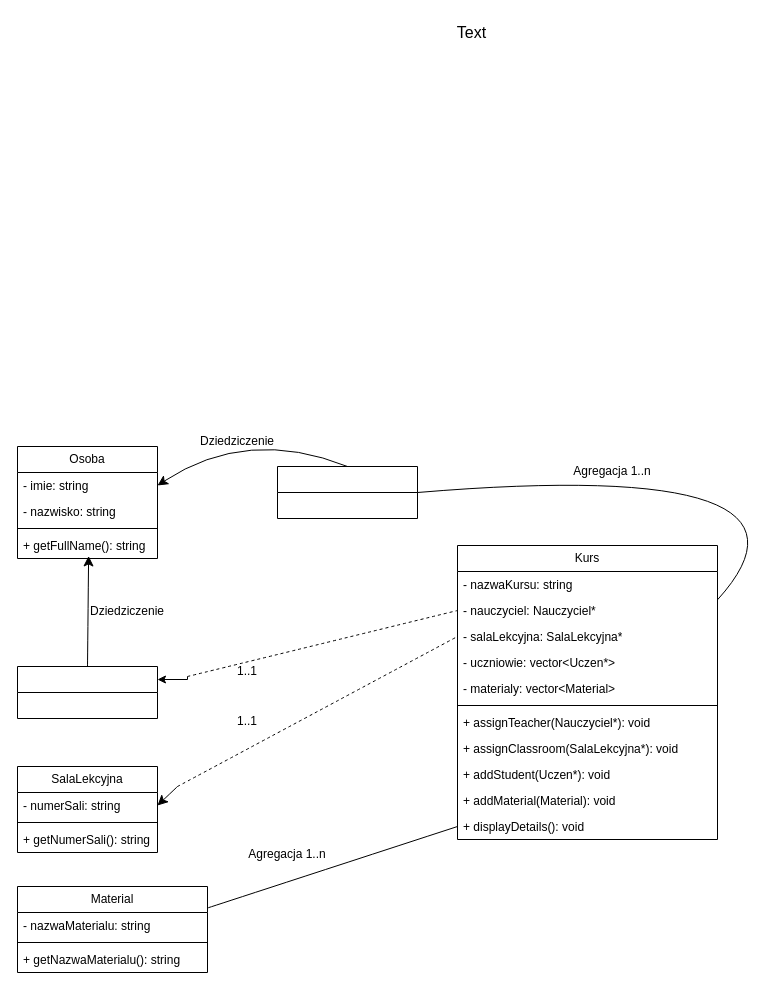
Image size: 766x992. Some labels were removed from this diagram. Each missing label, with the centre of its shape:
Nauczyciel: (x=87, y=692)
Uczeń: (x=347, y=492)
